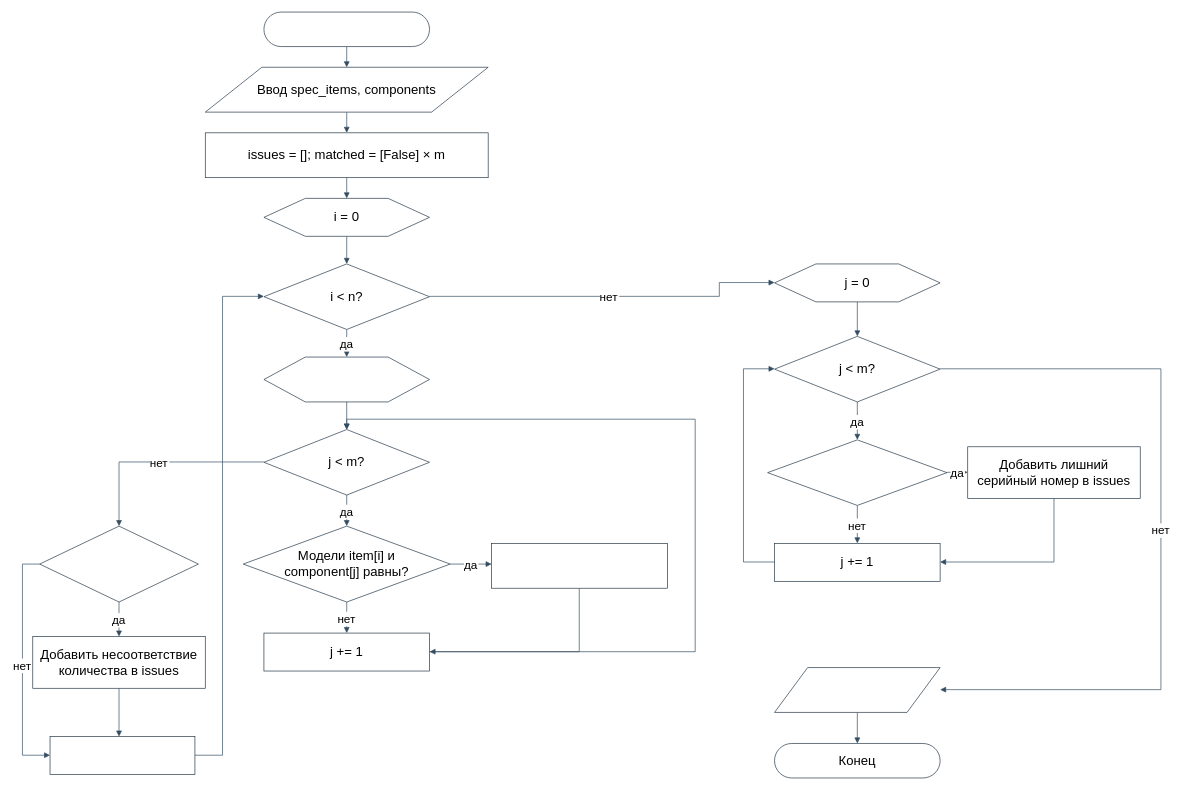
This 1182x790 diagram has some shape labels left out. The centre of each missing label's shape, as x and y in pixels:
"actual += 1 matched[j] = True" goes at pixel 579 565.
"actual = 0; j = 0" goes at pixel 346 379.
"actual ≠ item[i].quantity?" goes at pixel 118 563.
"i += 1" goes at pixel 122 755.
"matched[j] = False?" goes at pixel 857 472.
"Вывод issues" goes at pixel 857 689.
"Начало" goes at pixel 346 29.
